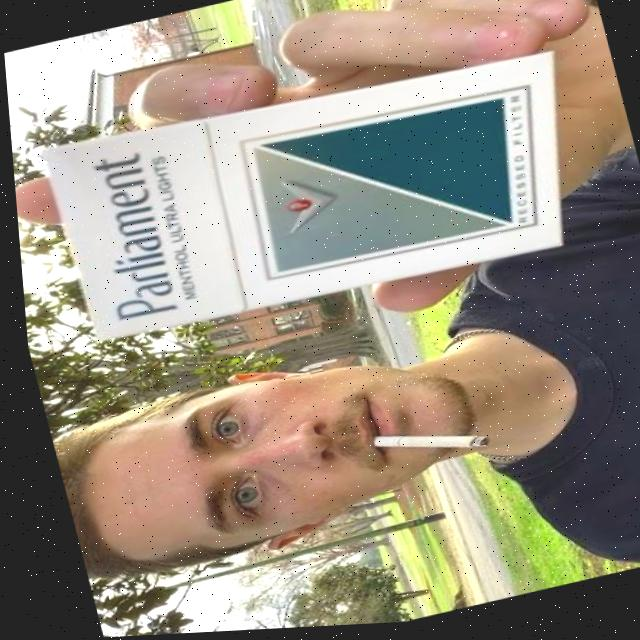cigarette: (372, 431, 487, 449)
